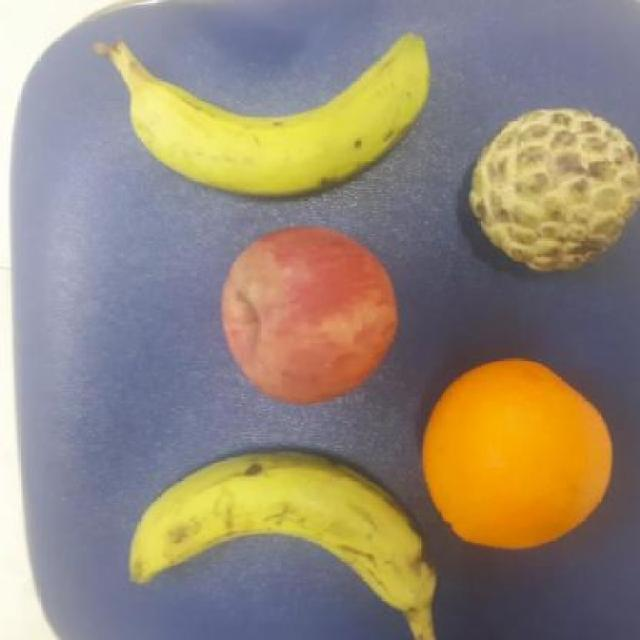apple: (218, 222, 399, 406)
banana: (127, 442, 439, 622), (104, 34, 438, 201)
oren: (420, 352, 615, 551)
sugar apple: (466, 104, 640, 278)
